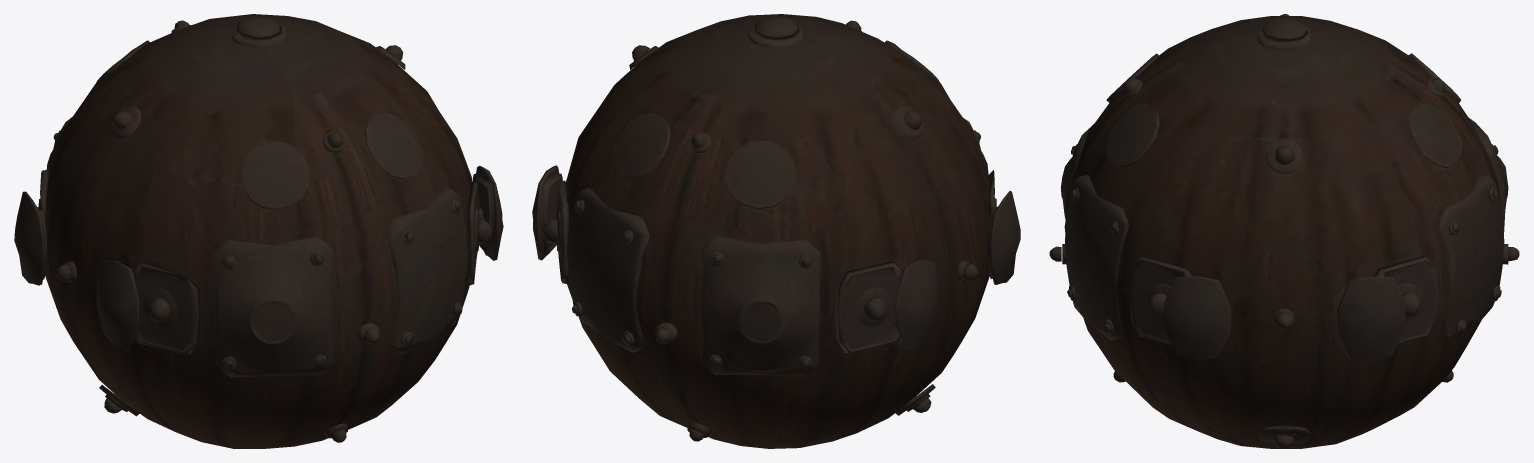
Rendered from ball.glb.
3 views of the same model, side by side, from view 1: azimuth 30°, elevation 25°; view 2: azimuth 150°, elevation 25°; view 3: azimuth 270°, elevation 25° (orthographic).
Parts seen in each view (by area): view 1: midway-fit; view 2: midway-fit; view 3: midway-fit.
Part boxes in pixels (x1,y1,x2,y2): midway-fit: (14, 14, 503, 448); midway-fit: (532, 14, 1020, 448); midway-fit: (1049, 14, 1519, 448).
Bounding box in the file's own units: 0.9892 × 0.9549 × 1.
Materials: 1 (1 with a texture image).
